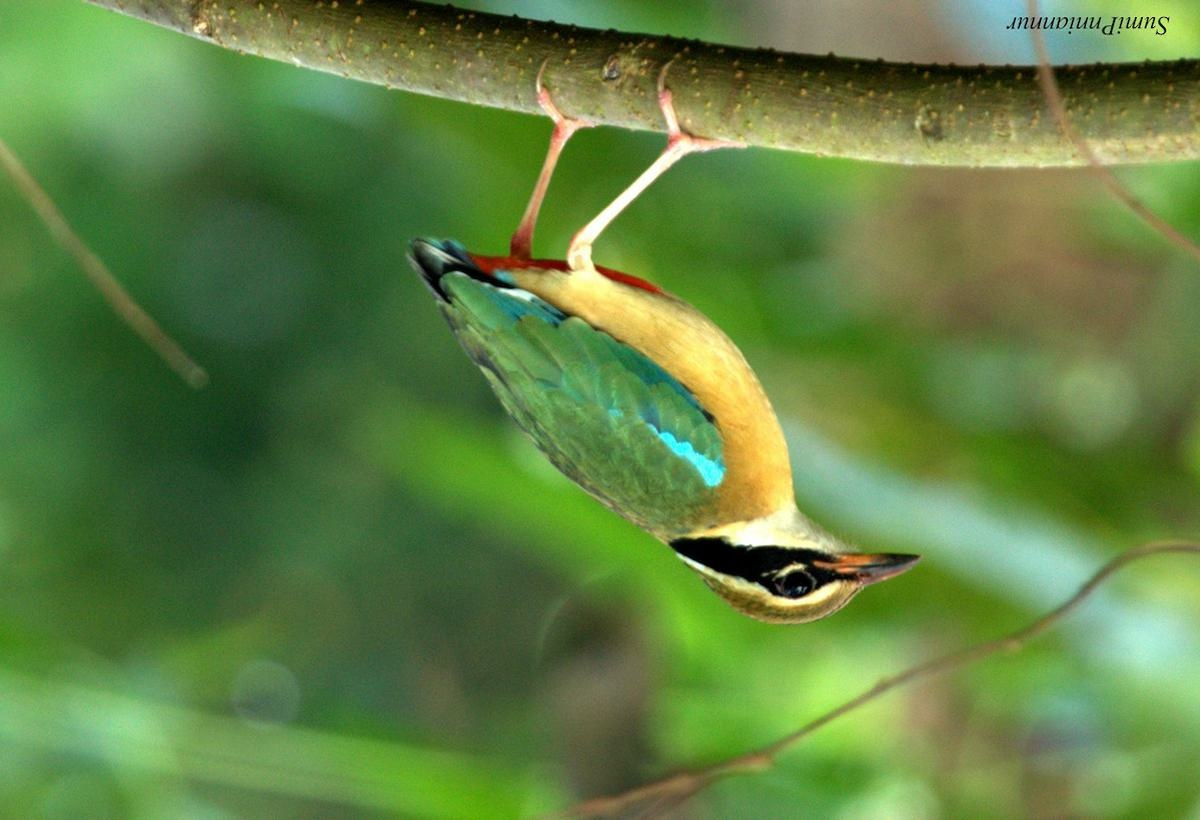pitta: (407, 97, 939, 673)
